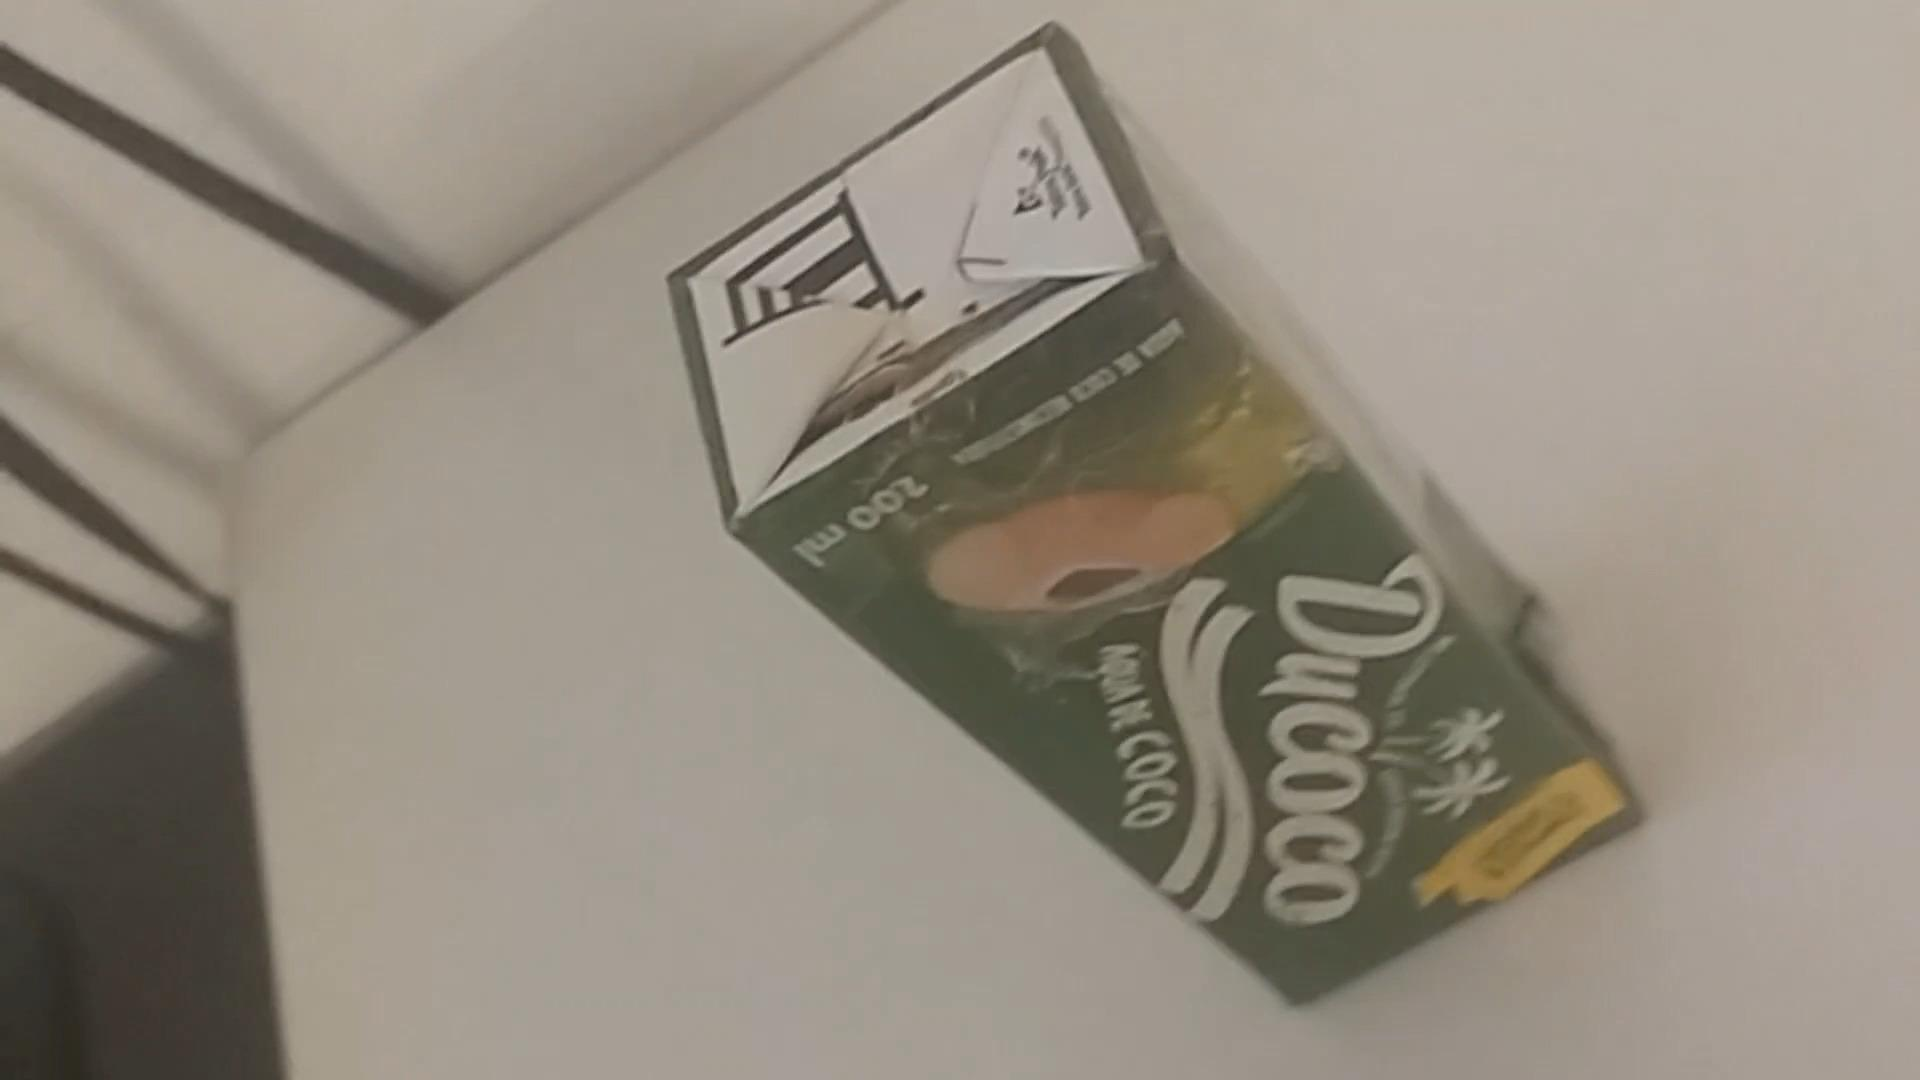coco: (667, 25, 1635, 1013)
